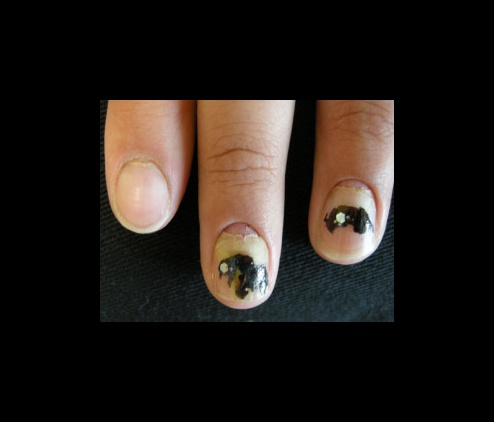SJS-TEN: (205, 218, 285, 307), (314, 175, 380, 251)
